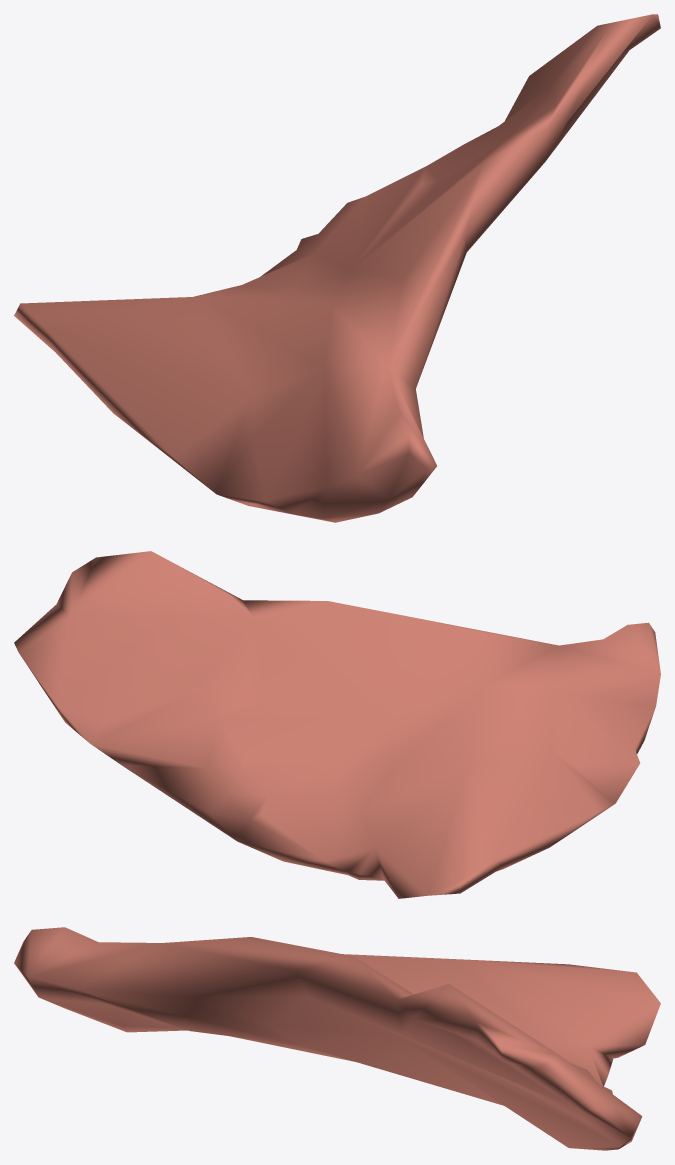
3 views of the same model, one above another, from view 1: azimuth 30°, elevation 25°; view 2: azimuth 150°, elevation 25°; view 3: azimuth 270°, elevation 25° (orthographic). The views are drawn at different scales.
Parts seen in each view (by area): view 1: 左侧降鼻中隔肌; view 2: 左侧降鼻中隔肌; view 3: 左侧降鼻中隔肌.
Boxes of the visible parts, left/top/right/bottom form: 左侧降鼻中隔肌: left=14, top=14, right=660, bottom=522; 左侧降鼻中隔肌: left=14, top=551, right=660, bottom=898; 左侧降鼻中隔肌: left=14, top=927, right=660, bottom=1150.
Size of the model in its own units: 0.0245 by 0.0112 by 0.0238.
